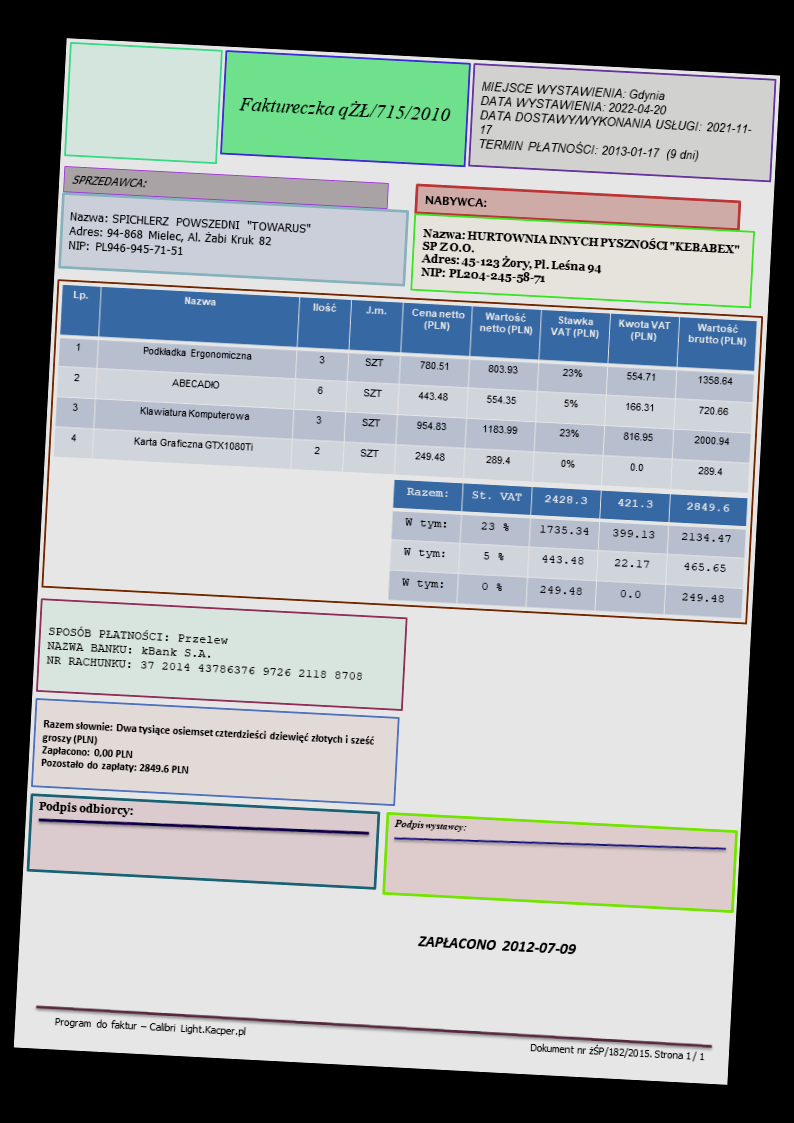Table: (52, 281, 756, 495), (387, 477, 749, 621)
TextBox: (476, 77, 755, 170), (38, 715, 376, 788), (417, 224, 745, 296), (44, 622, 367, 686), (64, 205, 314, 267), (234, 91, 453, 127), (51, 1012, 248, 1041), (528, 1038, 708, 1065), (415, 931, 579, 958), (35, 795, 135, 820), (391, 813, 467, 834), (70, 170, 147, 190), (421, 191, 487, 212)
